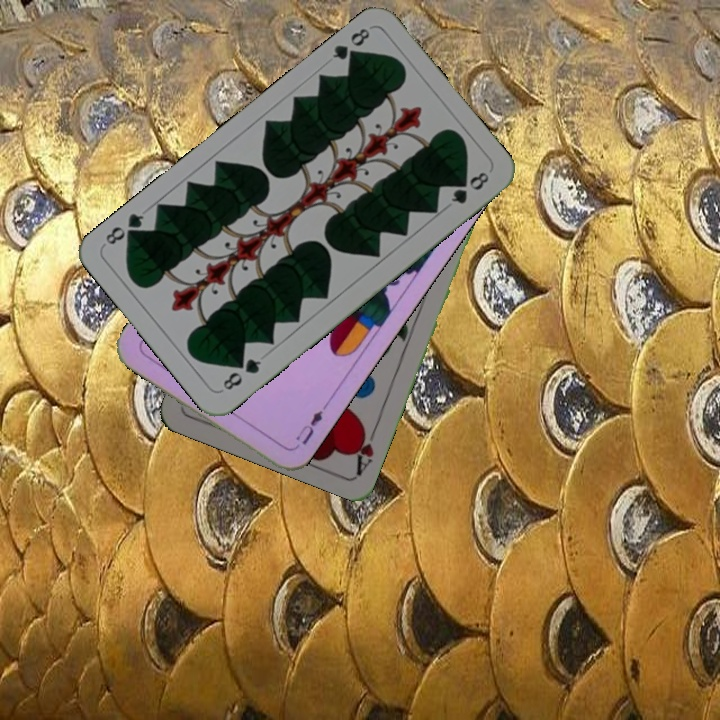EU: (291, 406, 326, 448)
G8: (328, 24, 373, 66), (216, 354, 264, 393)
HA: (349, 419, 382, 477)
